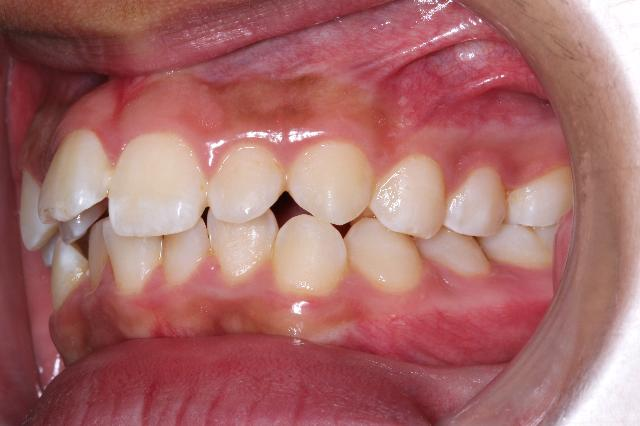canine class II 1/4: (269, 137, 425, 307)
